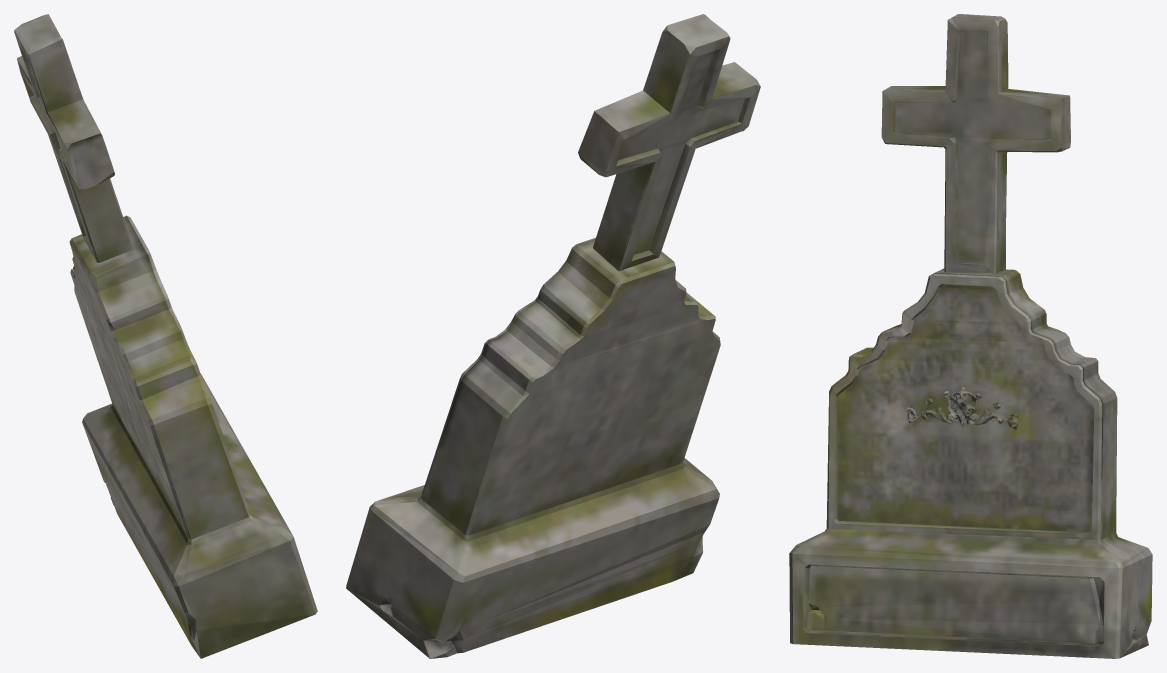
Rendered from Cemetery_OBJ_Tombstone_08.fbx.
3 renders of one model, left to right at view 1: azimuth 30°, elevation 25°; view 2: azimuth 150°, elevation 25°; view 3: azimuth 270°, elevation 25°, orthographic. The views are drawn at different scales.
Visible parts, largest first — view 1: Cemetery_OBJ_Tombstone_08; view 2: Cemetery_OBJ_Tombstone_08; view 3: Cemetery_OBJ_Tombstone_08.
Boxes of the visible parts, box(x1,y1,x2,y2) form: Cemetery_OBJ_Tombstone_08: box(14, 14, 317, 658); Cemetery_OBJ_Tombstone_08: box(346, 14, 760, 658); Cemetery_OBJ_Tombstone_08: box(789, 14, 1152, 658).
Bounding box in the file's own units: 65.28 × 132 × 75.36.
1 material, 1 textured.
